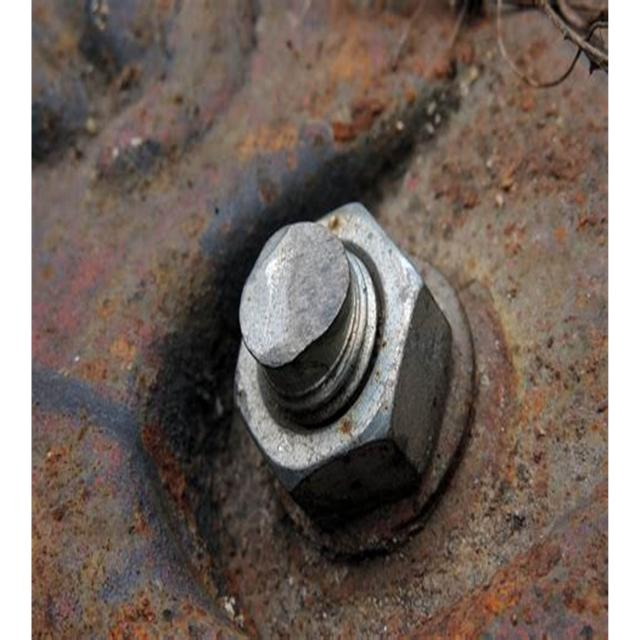bolt nut: (232, 198, 453, 527)
